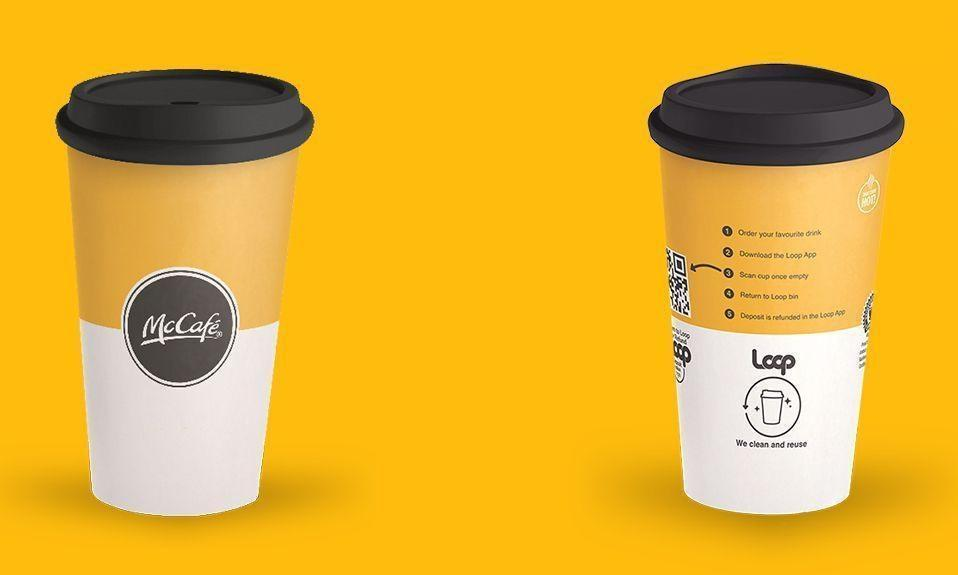cup-disposable: (49, 61, 316, 520), (645, 58, 907, 517)
